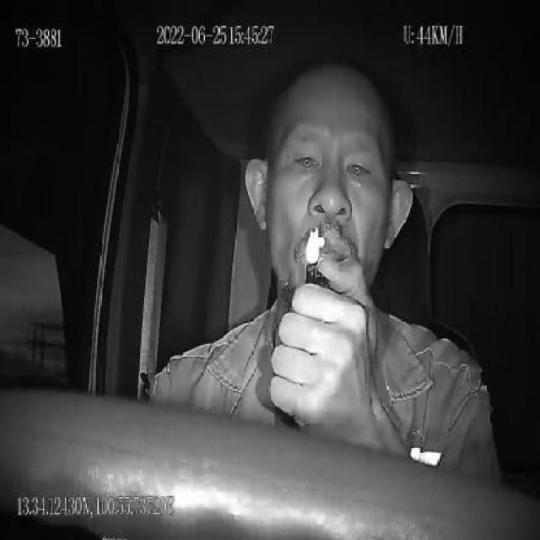smoking: (318, 235, 333, 254)
